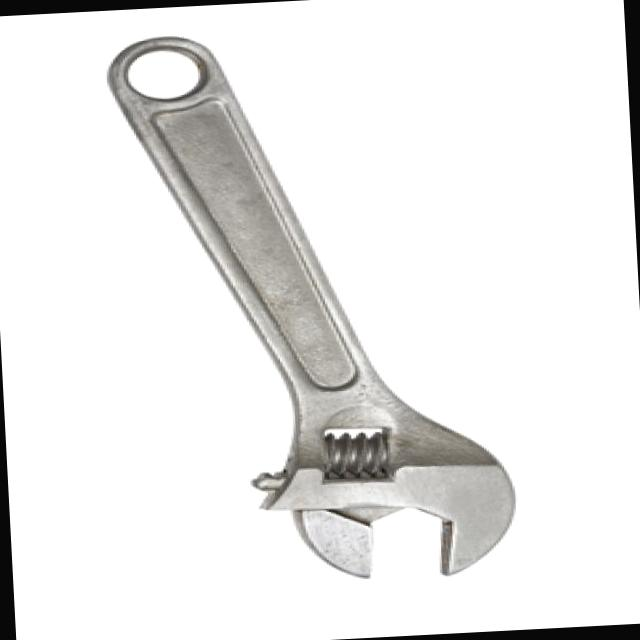wrench: (109, 39, 515, 578)
